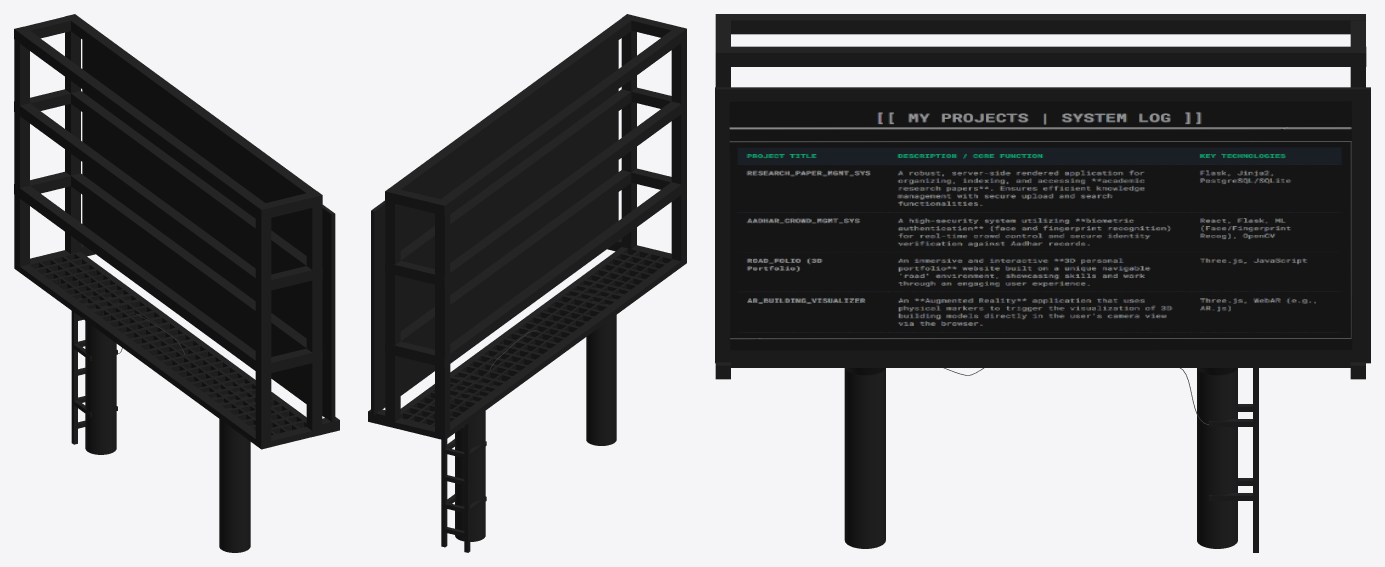
Rendered from billboard3.glb.
3 renders of one model, left to right at view 1: azimuth 30°, elevation 25°; view 2: azimuth 150°, elevation 25°; view 3: azimuth 270°, elevation 25°, orthographic. The views are drawn at different scales.
Parts seen in each view (by area): view 1: Cube_3, Cube.002_5, Cube.009_12, Cube.010_14, Cube.008_13, Cylinder.001_35, Cube.007_11, Cylinder.002_6, Cube.006_10, Cube.004_8, Cube.005_9, Cube.019_23 (+6 smaller); view 2: Cube_3, Cube.002_5, Cube.009_12, Cube.008_13, Cube.010_14, Cylinder.001_35, Cube.004_8, Cube.005_9, Cube.007_11, Cylinder.002_6, Cube.006_10, Cube.019_23 (+7 smaller); view 3: Plane_2, Cube_3, Cube.009_12, Cylinder.001_35, Cylinder.002_6, Cube.002_5, Cube.020_24, Cube.016_20.
Boxes of the visible parts, x1,y1,x2,y2 form: Cube_3: [82, 40, 335, 422]; Cube.002_5: [20, 250, 312, 446]; Cube.009_12: [14, 14, 322, 219]; Cube.010_14: [14, 89, 306, 292]; Cube.008_13: [14, 173, 310, 374]; Cylinder.001_35: [219, 419, 250, 552]; Cube.007_11: [255, 215, 271, 449]; Cylinder.002_6: [85, 321, 116, 454]; Cube.006_10: [306, 204, 322, 436]; Cube.004_8: [14, 40, 29, 272]; Cube.005_9: [65, 31, 80, 253]; Cube.019_23: [71, 311, 77, 444]; Cube_3: [371, 40, 618, 415]; Cube.002_5: [395, 245, 681, 437]; Cube.009_12: [385, 18, 686, 215]; Cube.008_13: [385, 168, 685, 367]; Cube.010_14: [385, 89, 685, 286]; Cylinder.001_35: [586, 315, 616, 445]; Cube.004_8: [435, 211, 450, 440]; Cube.005_9: [385, 202, 400, 427]; Cube.007_11: [671, 38, 686, 266]; Cylinder.002_6: [455, 411, 485, 541]; Cube.006_10: [621, 30, 636, 244]; Cube.019_23: [464, 422, 470, 552]; Plane_2: [729, 101, 1352, 350]; Cube_3: [715, 87, 1370, 363]; Cube.009_12: [716, 14, 1366, 66]; Cylinder.001_35: [844, 368, 885, 548]; Cylinder.002_6: [1197, 368, 1237, 548]; Cube.002_5: [731, 363, 1350, 367]; Cube.020_24: [1253, 368, 1258, 552]; Cube.016_20: [715, 14, 730, 66].
Bounding box in the file's own units: 3.3 × 15.61 × 18.17.
Materials: 3 (1 with a texture image).
